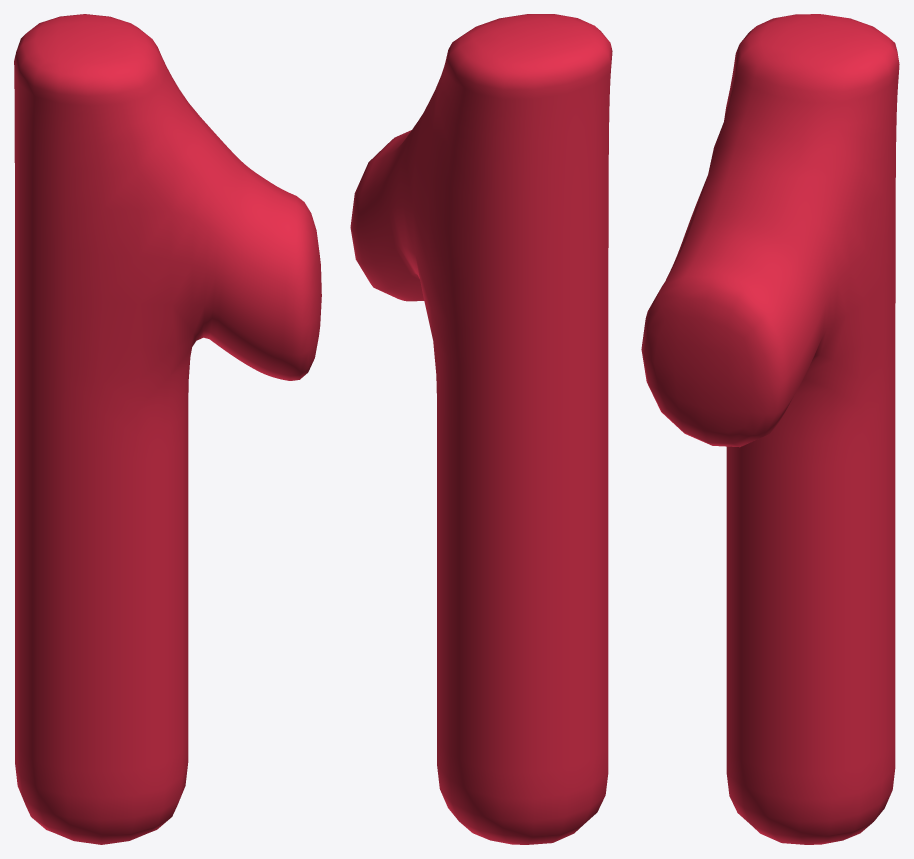
File: ehad.glb
3 renders of one model, left to right at view 1: azimuth 30°, elevation 25°; view 2: azimuth 150°, elevation 25°; view 3: azimuth 270°, elevation 25°, orthographic.
Parts seen in each view (by area): view 1: node_id27; view 2: node_id27; view 3: node_id27.
Boxes of the visible parts, box(x1,y1,x2,y2) form: node_id27: box(14, 14, 321, 844); node_id27: box(350, 14, 612, 844); node_id27: box(641, 14, 899, 844).
Bounding box in the file's own units: 0.1046 × 0.301 × 0.0884.
1 material, 1 textured.
